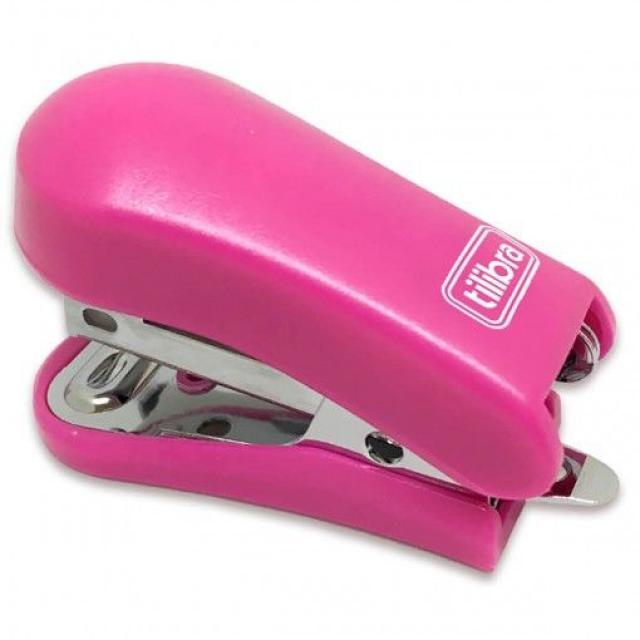Stapler: (0, 13, 640, 590)
